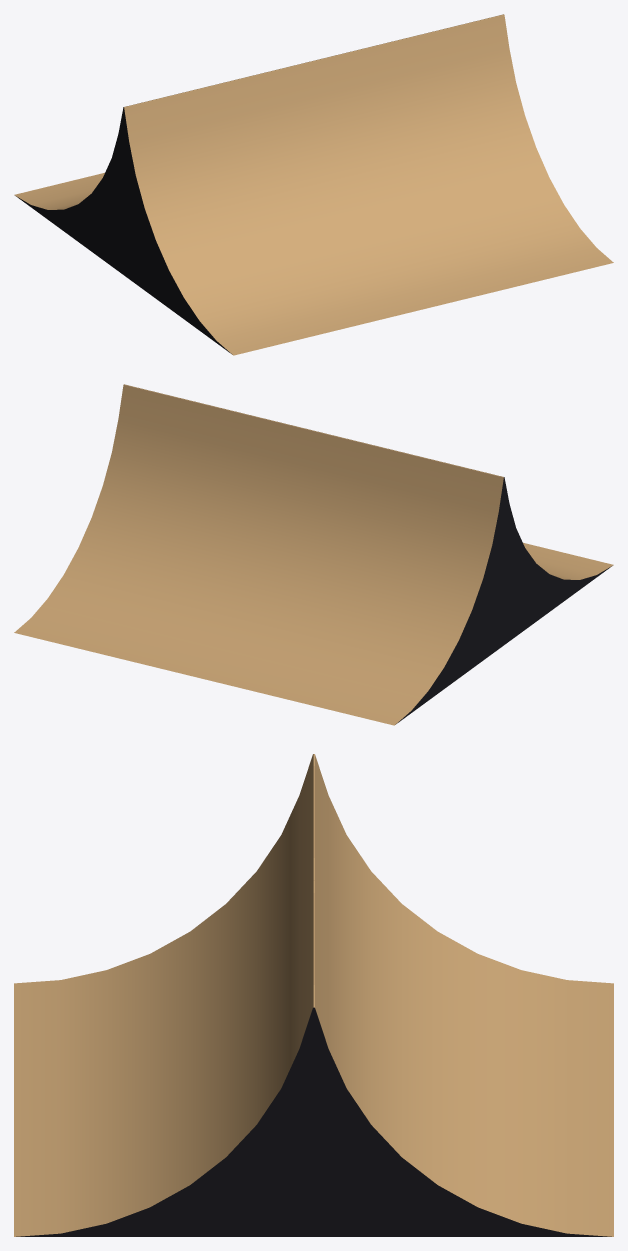
Rendered from Quater_SML_Spine.fbx.
The picture shows the model from 3 angles, top to bottom: view 1: azimuth 30°, elevation 25°; view 2: azimuth 150°, elevation 25°; view 3: azimuth 270°, elevation 25°; orthographic projection. The views are drawn at different scales.
Parts seen in each view (by area): view 1: Quater_SML_Spine; view 2: Quater_SML_Spine; view 3: Quater_SML_Spine.
Boxes of the visible parts, x1,y1,x2,y2 form: Quater_SML_Spine: (14,14,613,355); Quater_SML_Spine: (14,384,613,725); Quater_SML_Spine: (14,754,613,1236).
Size of the model in its own units: 10 by 4.22 by 10.
